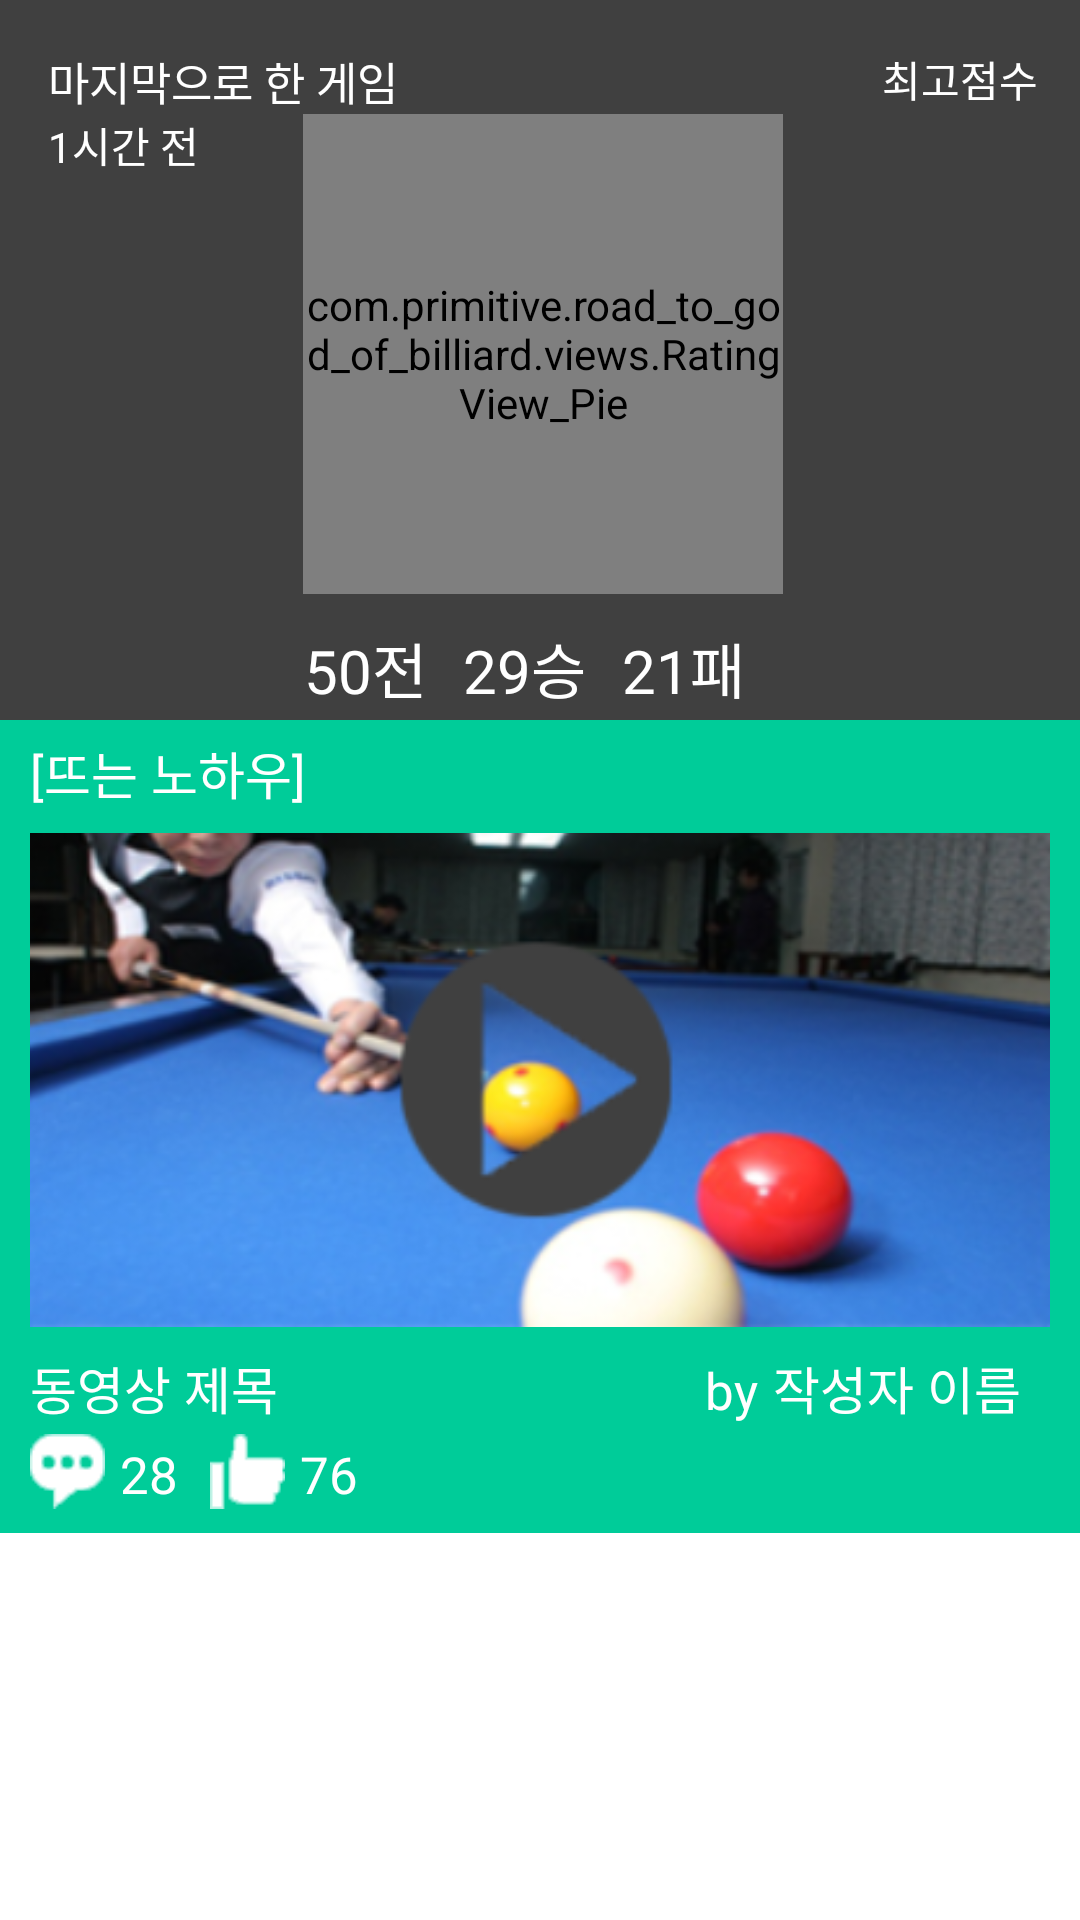

Icon click points for this 1080px x 1920px phone screenshot, format point (x, y):
comments: point (67, 1471)
like: point (247, 1471)
